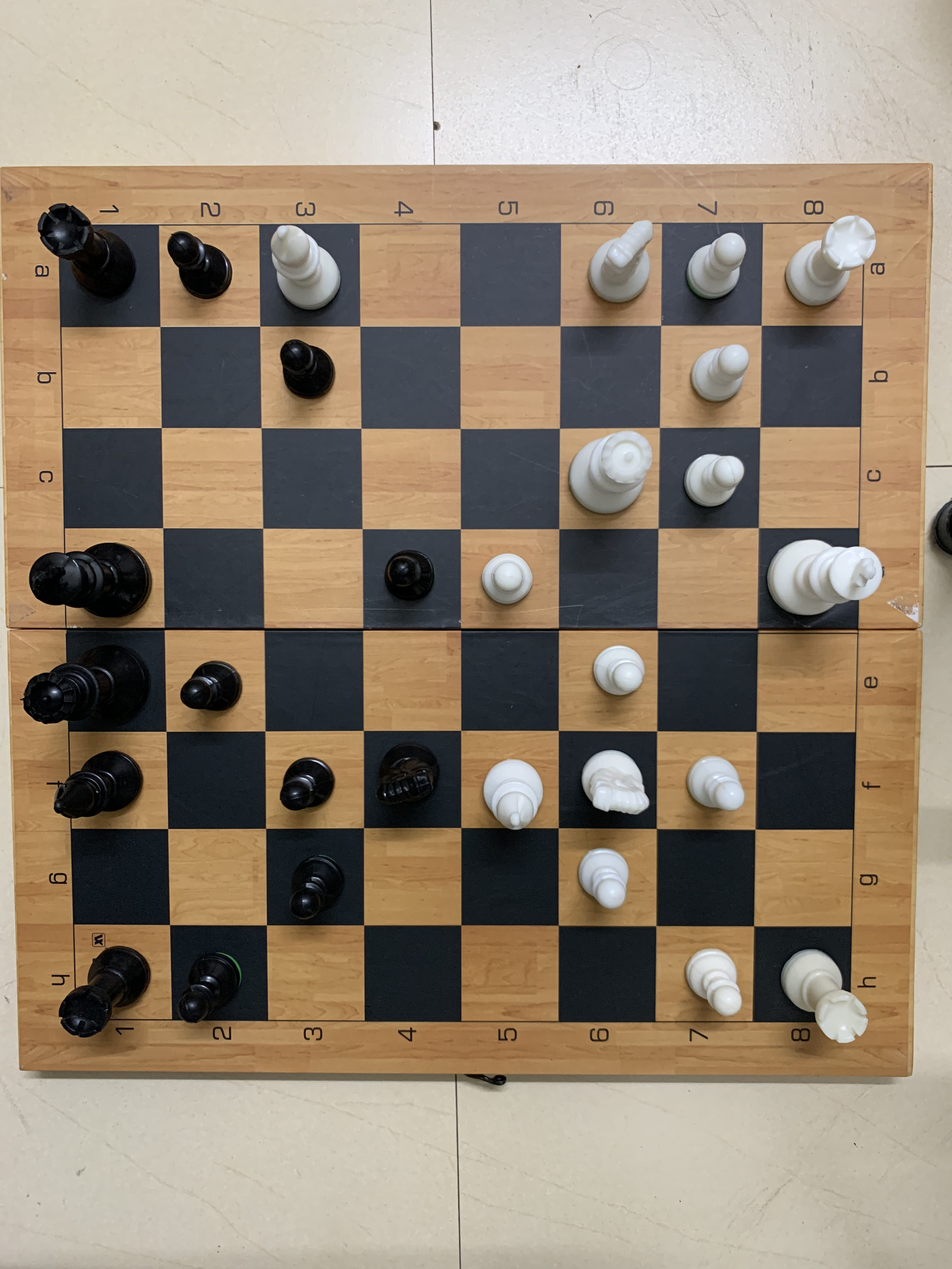black_bishop: (42, 737, 150, 833)
black_king: (17, 527, 164, 625)
black_knight: (359, 735, 449, 824)
black_pawn: (140, 212, 249, 326), (368, 526, 475, 642), (168, 930, 264, 1045), (268, 324, 360, 425), (263, 729, 349, 829), (268, 833, 353, 931), (175, 635, 252, 728)
black_queen: (16, 635, 162, 743)
black_rook: (21, 182, 151, 324), (41, 929, 163, 1058)
white_bishop: (469, 732, 558, 842), (265, 222, 356, 312)
white_king: (754, 521, 893, 630)
white_knight: (564, 213, 674, 317)
white_pawn: (458, 516, 566, 620), (564, 828, 658, 936), (656, 921, 759, 1019), (661, 723, 756, 825), (678, 424, 776, 519), (675, 329, 765, 431), (570, 625, 658, 723), (678, 219, 757, 314)
white_queen: (562, 419, 662, 531)
white_rook: (763, 921, 882, 1051), (765, 203, 882, 319)
